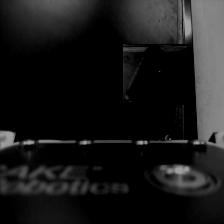Door Handle: (124, 43, 187, 105)
Lock: (151, 128, 177, 140)
